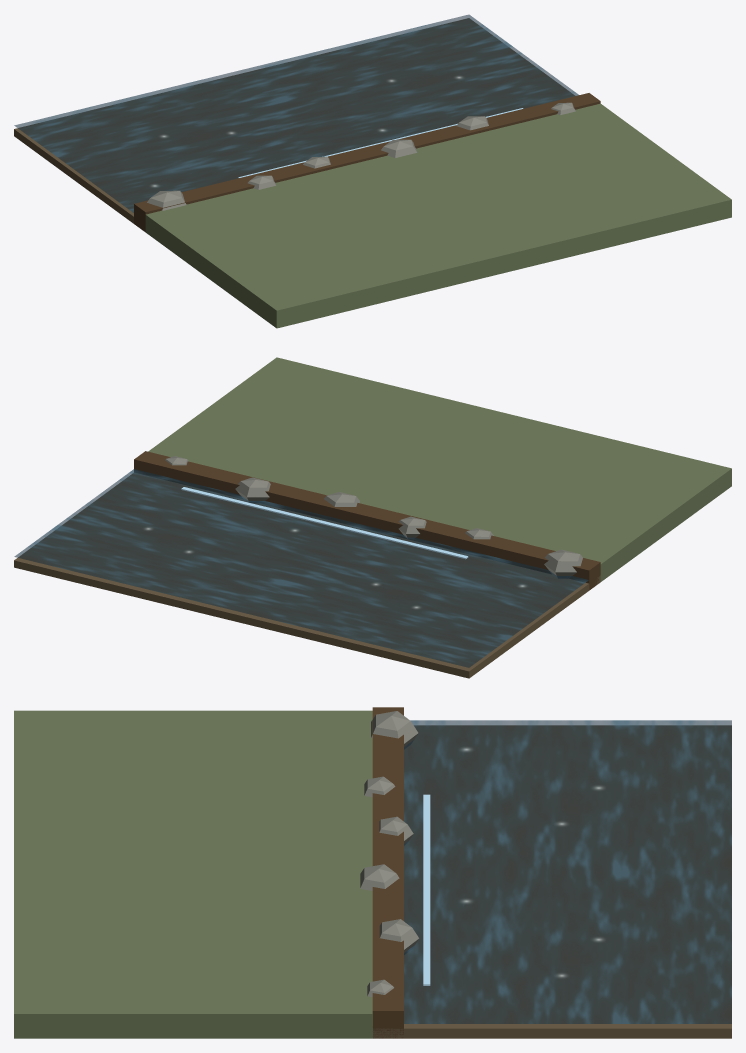
The model's file is br_shore.glb.
The picture shows the model from 3 angles, top to bottom: view 1: azimuth 30°, elevation 25°; view 2: azimuth 150°, elevation 25°; view 3: azimuth 270°, elevation 25°; orthographic projection. The views are drawn at different scales.
Visible parts, largest first — view 1: br_shore; view 2: br_shore; view 3: br_shore.
Part boxes in pixels (x1,y1,x2,y2): br_shore: (14,14,731,328); br_shore: (14,357,731,678); br_shore: (14,707,731,1038).
Bounding box in the file's own units: 8 × 0.472 × 8.
6 materials, 1 textured.
